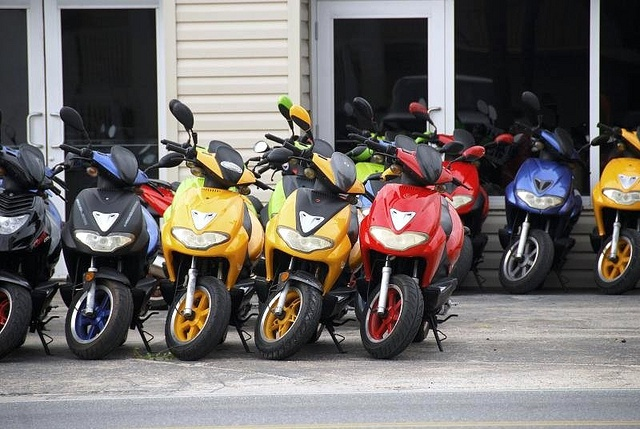non-vehicle: (256, 103, 402, 362), (58, 105, 184, 361), (158, 97, 275, 361), (349, 134, 485, 359), (496, 85, 612, 294), (410, 102, 512, 291), (1, 143, 69, 361), (260, 137, 372, 230), (589, 122, 640, 294), (358, 154, 392, 178)
